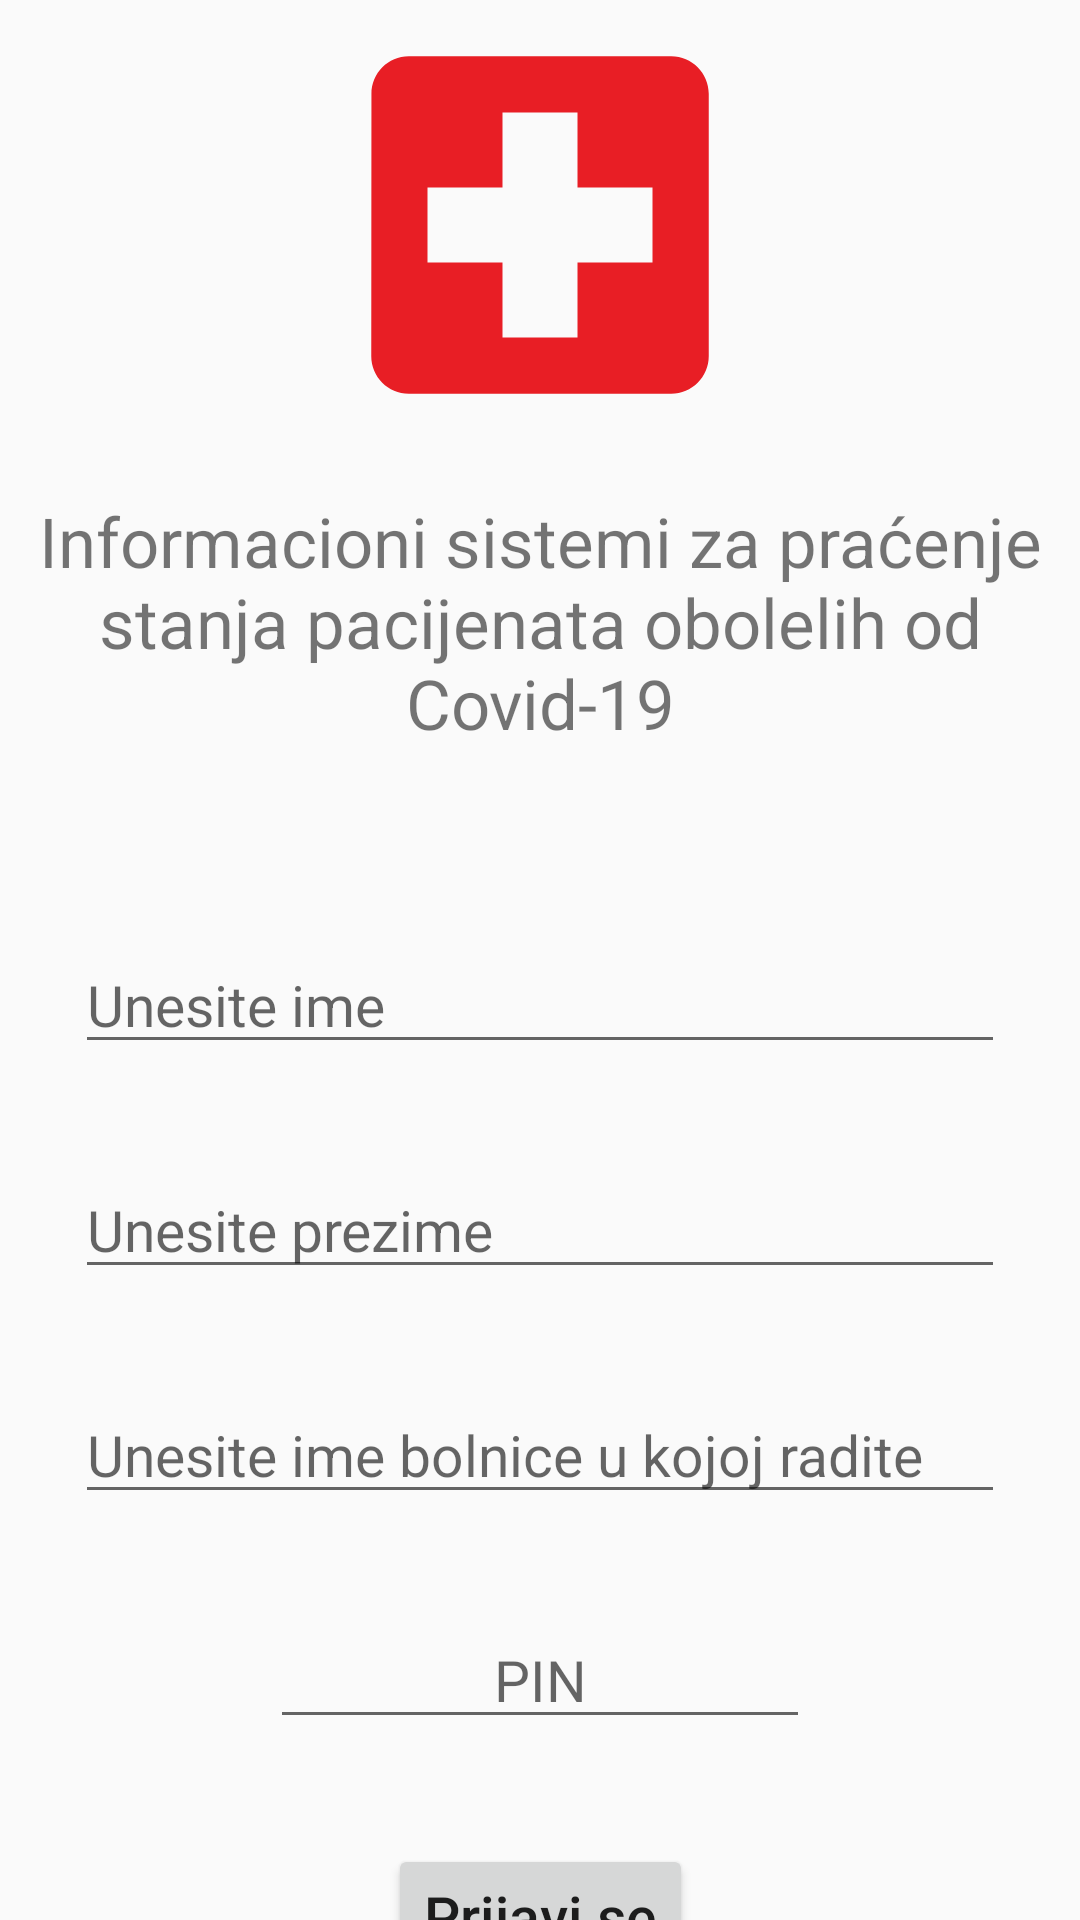

Locate icon controls on the screen. Image size 1080×1920, boxes as (x1, y1, x2, y2).
local hospital: (371, 56, 709, 394)
